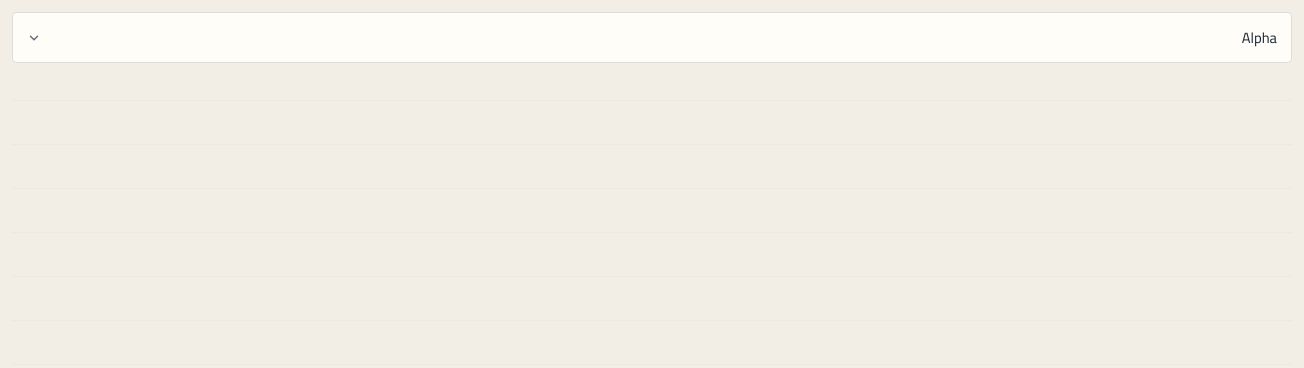
it: Select — searchable variant › filters options by the typed query and commits the match
Later steps or results of the test are not shown.
Click the dropdown named "Test select".
click(1259, 38)  # box [12,12,1292,63]
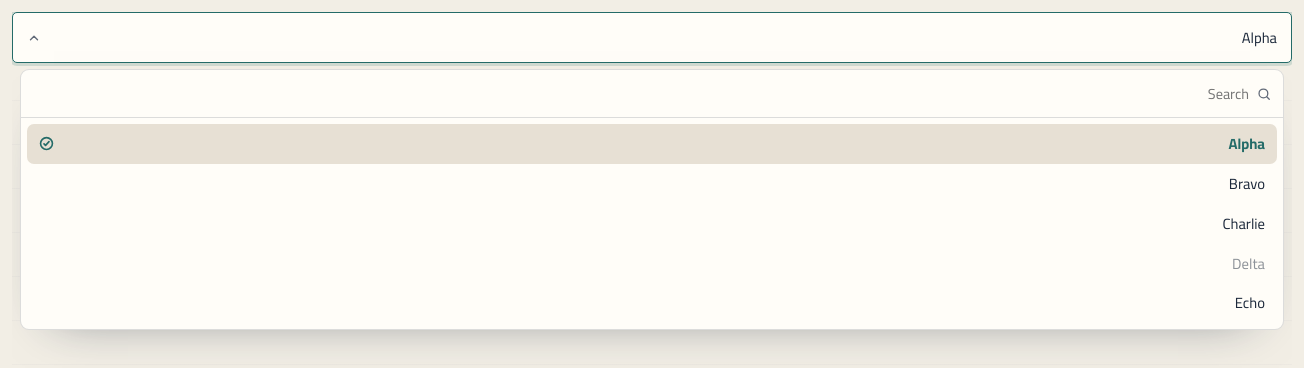
Type "ech" into the field with placeholder "Search".
click(641, 94); type("ech")  # box [33,80,1249,107]
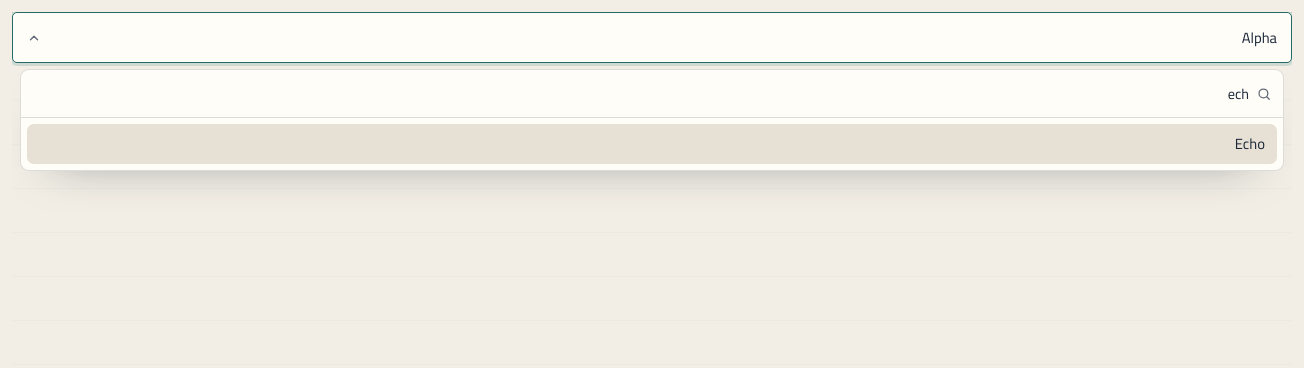
Expected: the number of options is 1, [27,124,1277,164]
